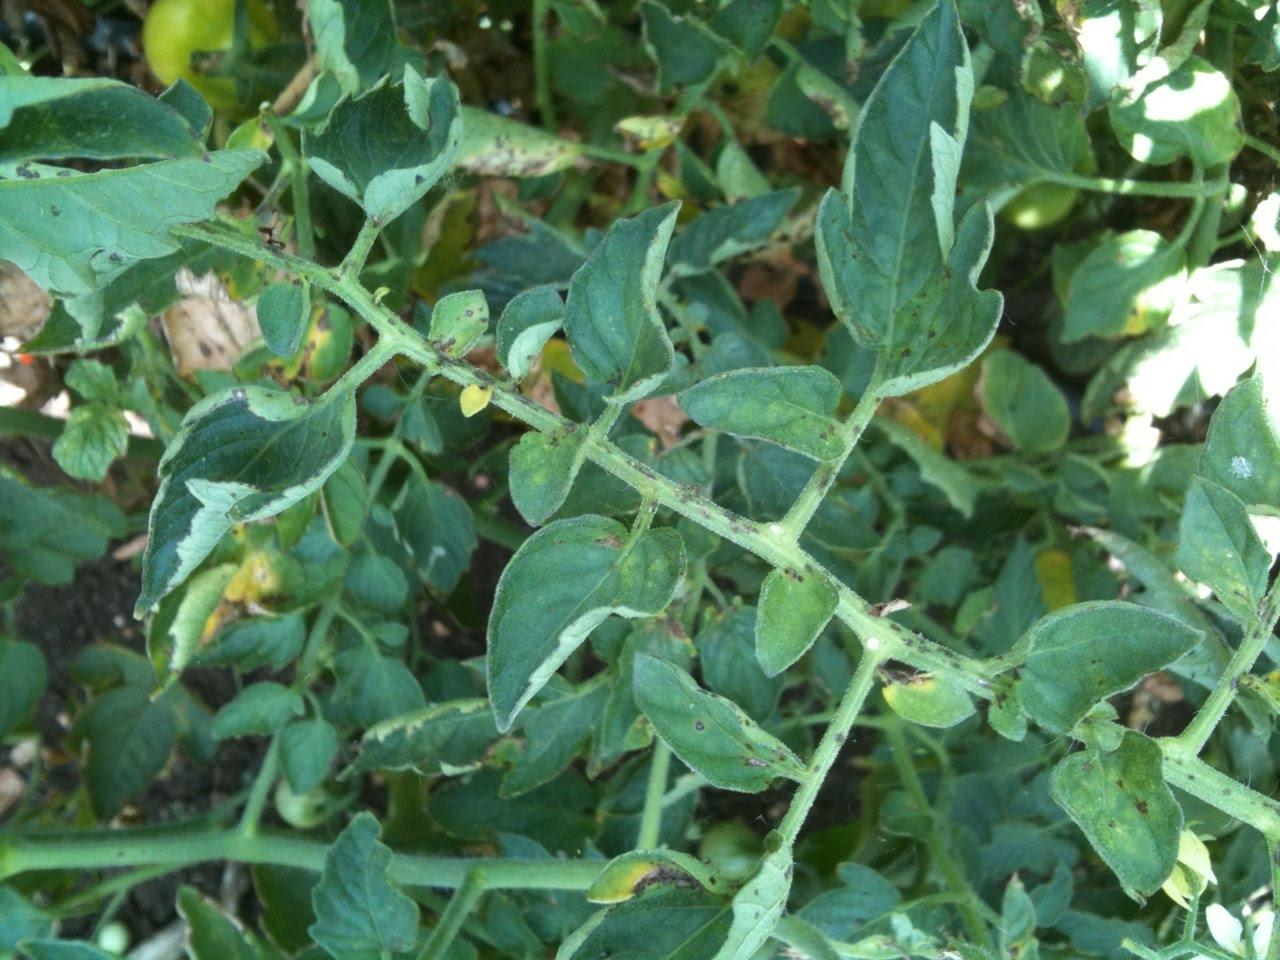Tomato leaf bacterial spot: (99, 326, 406, 636), (806, 17, 1036, 393), (468, 510, 695, 720), (949, 587, 1209, 730), (1040, 710, 1208, 910), (646, 334, 877, 475), (621, 648, 815, 814), (400, 270, 500, 369)
